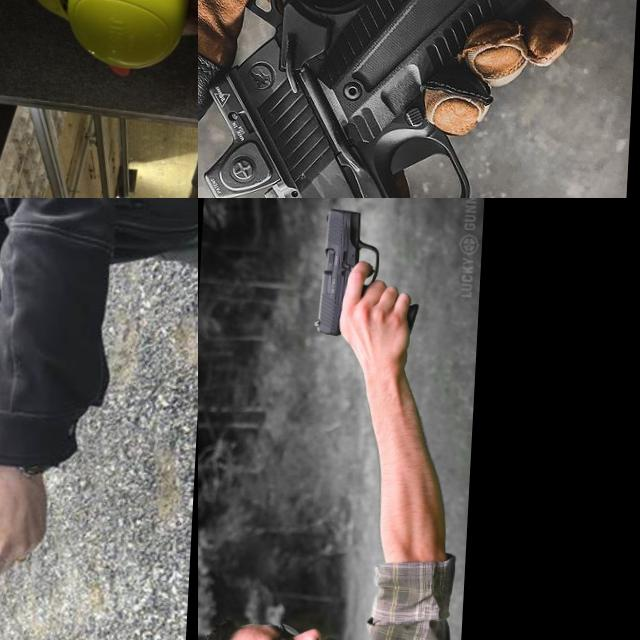handgun: (198, 0, 620, 198), (311, 205, 427, 347), (0, 474, 60, 640)
